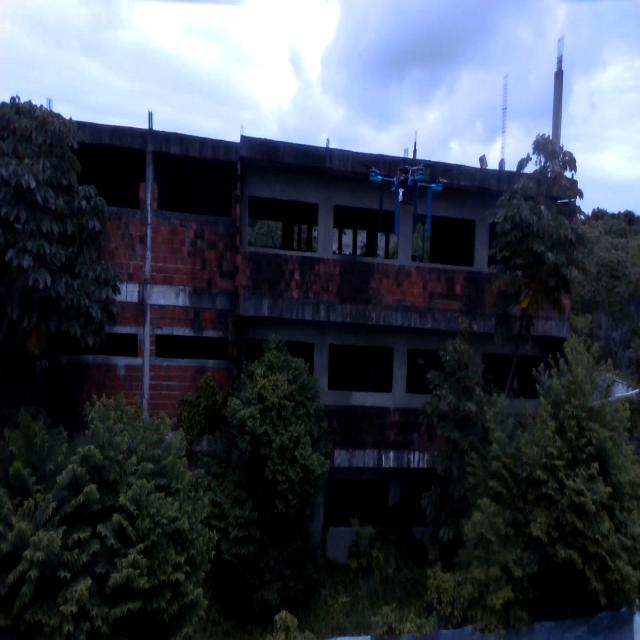-uav-: (352, 147, 466, 246)
